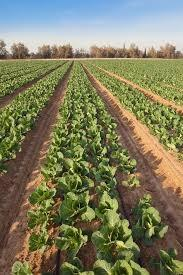field: (9, 62, 166, 274), (83, 60, 181, 166), (0, 59, 73, 172), (2, 60, 64, 94)
